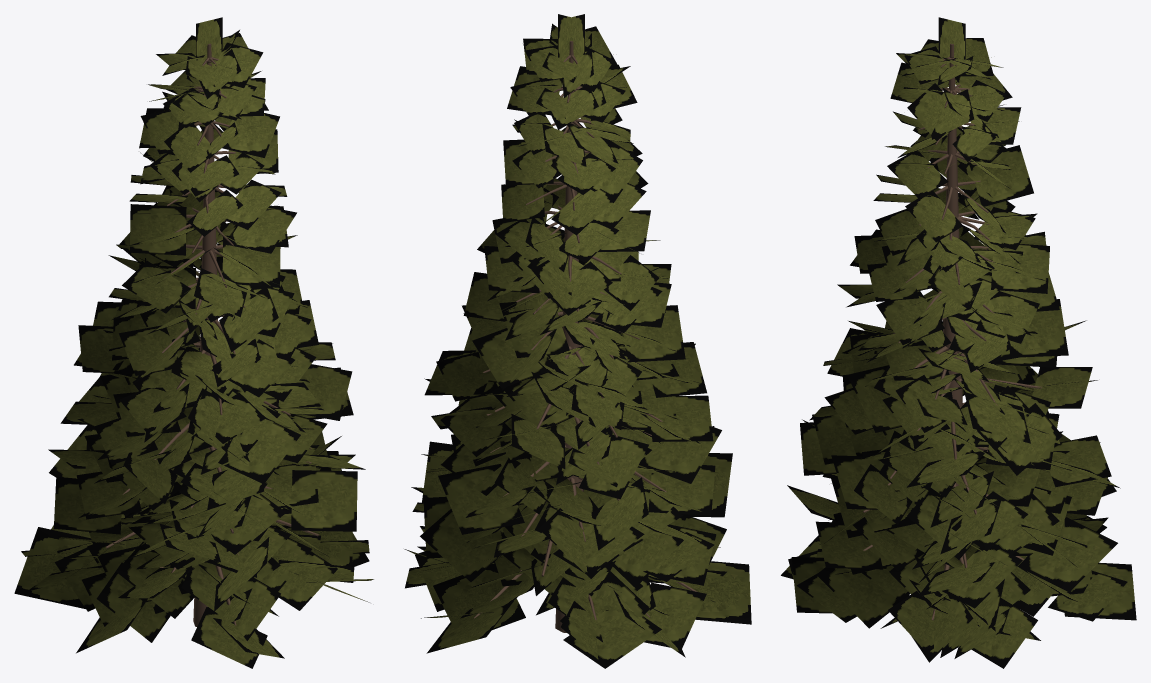
Rendered from pine_1_burnt1.glb.
3 renders of one model, left to right at view 1: azimuth 30°, elevation 25°; view 2: azimuth 150°, elevation 25°; view 3: azimuth 270°, elevation 25°, orthographic.
Visible parts, largest first — view 1: pine_1_burnt1; view 2: pine_1_burnt1; view 3: pine_1_burnt1.
Boxes of the visible parts, bbox=[...] form: pine_1_burnt1: bbox=[14, 17, 373, 668]; pine_1_burnt1: bbox=[404, 14, 751, 668]; pine_1_burnt1: bbox=[781, 17, 1136, 668].
Bounding box in the file's own units: 6.83 × 12.9 × 6.9.
Materials: 2 (1 with a texture image).
